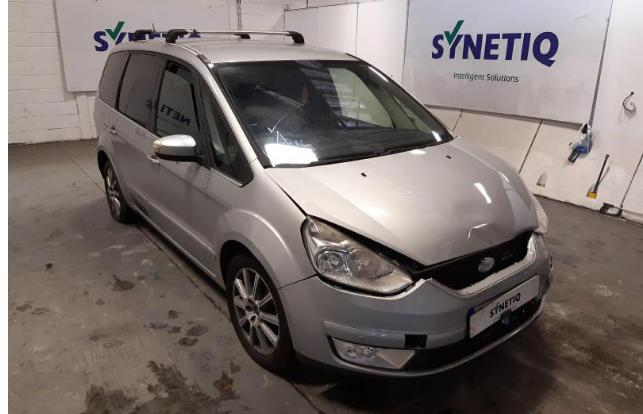Back-door: (105, 53, 163, 216)
Back-wheel: (103, 160, 139, 224)
Back-window: (117, 55, 166, 132), (101, 55, 125, 104)
Fender: (206, 158, 317, 291)
Front-bumper: (279, 233, 554, 377)
Front-door: (144, 59, 210, 267)
Front-wheel: (226, 255, 291, 370)
Front-window: (200, 82, 246, 179), (155, 70, 201, 153)
Grille: (414, 229, 535, 290)
Headlight: (300, 217, 413, 298), (530, 193, 548, 234)
Hood: (262, 136, 539, 266)
License-plate: (470, 274, 538, 338)
Mirror: (153, 134, 209, 168)
Quarter-panel: (93, 97, 117, 178)
Rocker-panel: (121, 188, 217, 282)
Roof: (126, 37, 353, 69)
Windshield: (210, 58, 457, 169)
